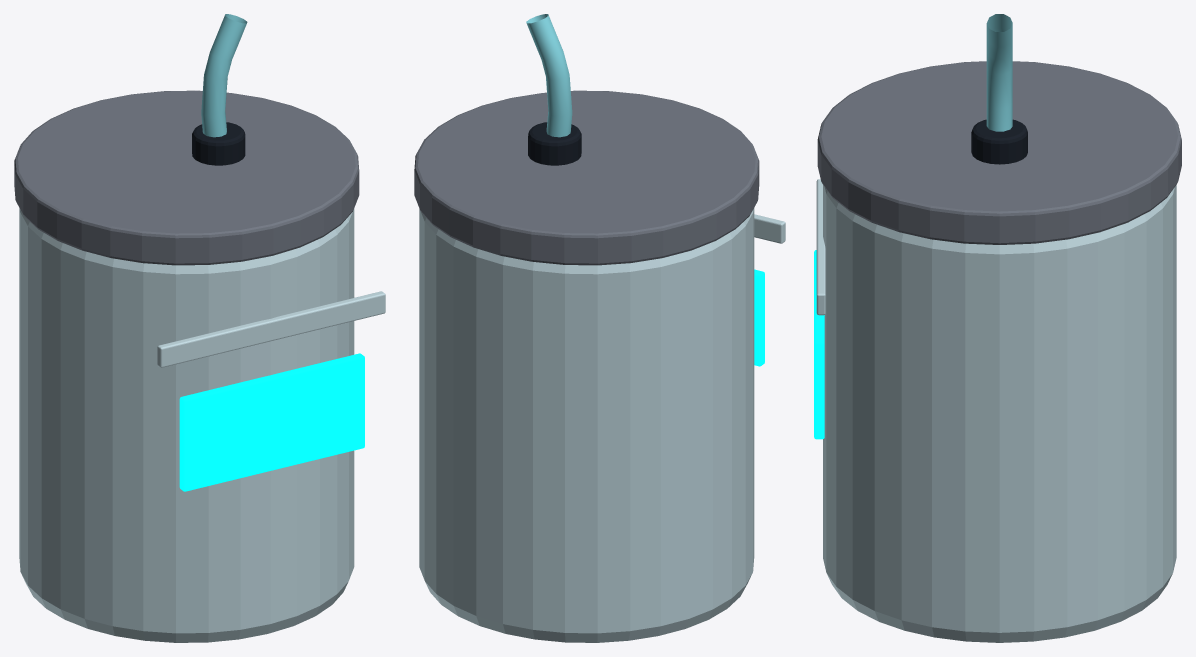
Rendered from food_softdrink_cup_future_a_v01.glb.
3 renders of one model, left to right at view 1: azimuth 30°, elevation 25°; view 2: azimuth 150°, elevation 25°; view 3: azimuth 270°, elevation 25°, orthographic. The views are drawn at different scales.
Visible parts, largest first — view 1: component__recognizable_primary_structure__cup_outer, component__functional_secondary_components__sealed_lid, component__appropriate_materials__brand_label, component__appropriate_materials__condensation_band, component__functional_secondary_components__straw, component__functional_secondary_components__lid_opening; view 2: component__recognizable_primary_structure__cup_outer, component__functional_secondary_components__sealed_lid, component__functional_secondary_components__straw, component__functional_secondary_components__lid_opening, component__appropriate_materials__brand_label, component__appropriate_materials__condensation_band; view 3: component__recognizable_primary_structure__cup_outer, component__functional_secondary_components__sealed_lid, component__functional_secondary_components__straw, component__functional_secondary_components__lid_opening, component__appropriate_materials__brand_label, component__appropriate_materials__condensation_band.
Part boxes in pixels (x1,y1,x2,y2): component__recognizable_primary_structure__cup_outer: [19, 208, 354, 642]; component__functional_secondary_components__sealed_lid: [14, 90, 359, 265]; component__appropriate_materials__brand_label: [179, 353, 364, 491]; component__appropriate_materials__condensation_band: [157, 291, 385, 367]; component__functional_secondary_components__straw: [201, 14, 247, 137]; component__functional_secondary_components__lid_opening: [192, 122, 245, 165]; component__recognizable_primary_structure__cup_outer: [419, 208, 754, 642]; component__functional_secondary_components__sealed_lid: [414, 90, 759, 265]; component__functional_secondary_components__straw: [526, 14, 572, 137]; component__functional_secondary_components__lid_opening: [528, 122, 581, 165]; component__appropriate_materials__brand_label: [754, 269, 764, 366]; component__appropriate_materials__condensation_band: [754, 214, 785, 243]; component__recognizable_primary_structure__cup_outer: [823, 185, 1176, 642]; component__functional_secondary_components__sealed_lid: [817, 61, 1181, 244]; component__functional_secondary_components__straw: [986, 14, 1012, 131]; component__functional_secondary_components__lid_opening: [971, 119, 1027, 164]; component__appropriate_materials__brand_label: [814, 250, 824, 439]; component__appropriate_materials__condensation_band: [816, 179, 825, 315].
Bounding box in the file's own units: 0.3362 × 0.598 × 0.3395.
